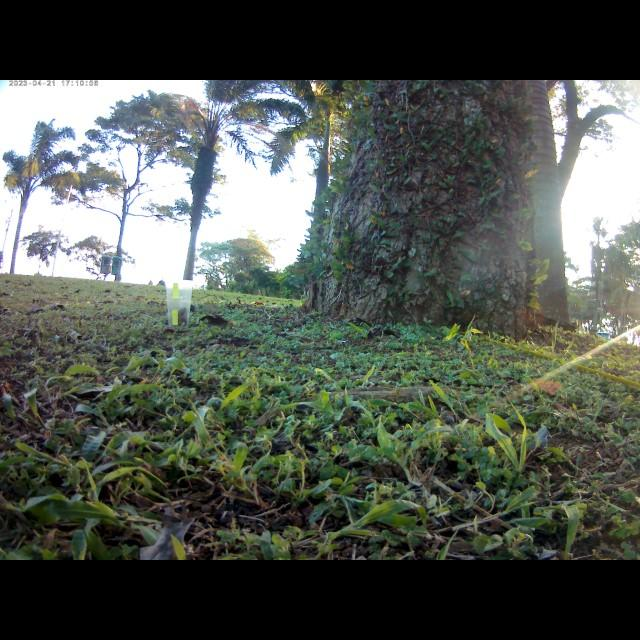arvore: (295, 81, 556, 341)
